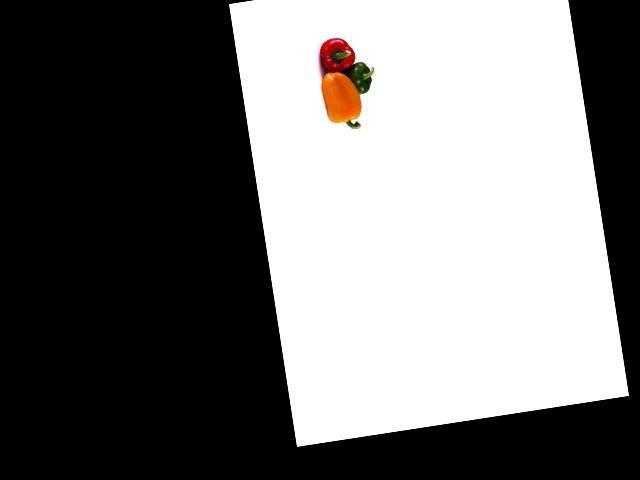bell_pepper: (340, 57, 378, 99)
